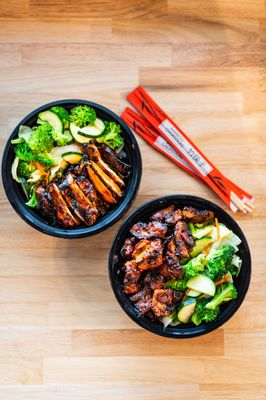burger: (123, 87, 255, 214)
curry: (12, 122, 56, 166), (203, 282, 238, 311), (69, 105, 96, 128)
sushi: (108, 194, 252, 338), (2, 98, 142, 238)
